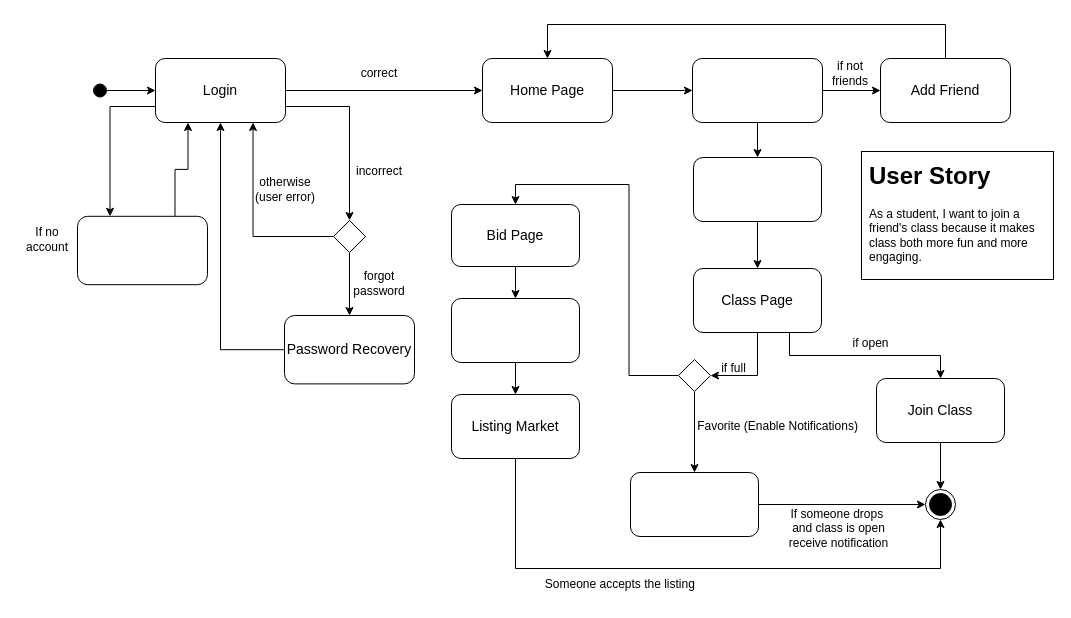
Some shapes in this 1071 by 618 pixel diagram are drawn without their labels. Here are the shapes that lost their labels. From the top down, the box of each, then its label:
(692, 58, 822, 122): Friends List
(692, 156, 822, 222): Friend's Class List
(76, 215, 208, 285): Signup
(450, 298, 580, 362): Offer this class
(630, 472, 758, 536): Favorite Class
